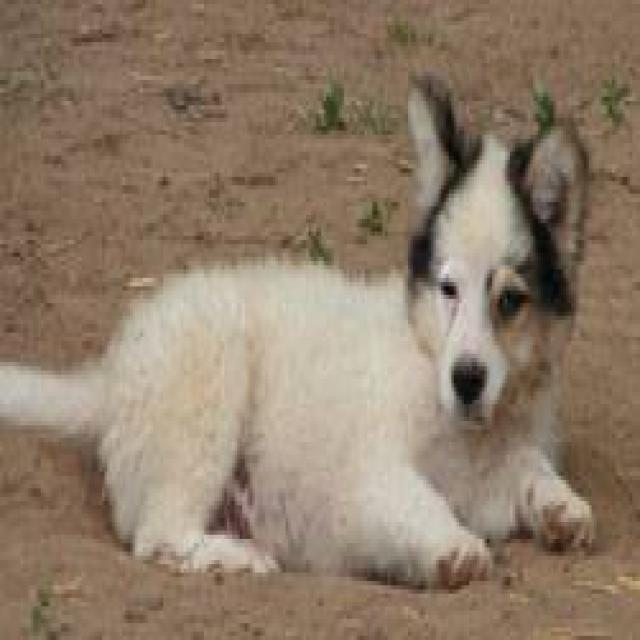dog: (0, 63, 597, 590)
